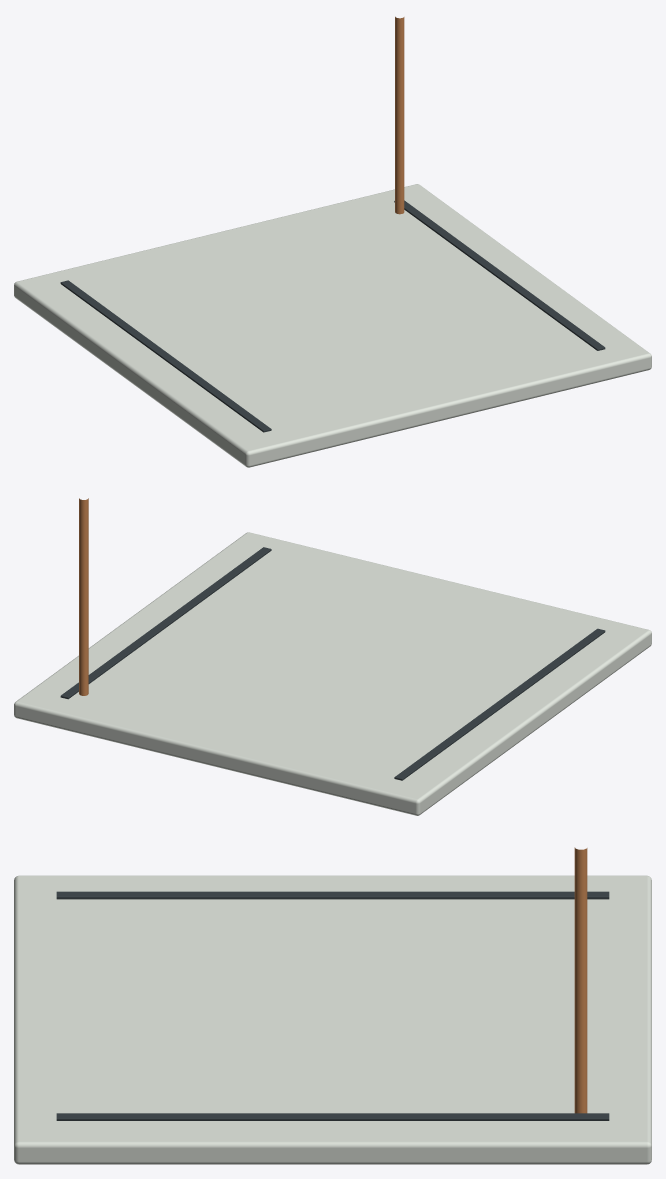
The model's file is abandoned-weather-station-and-storm-shelter-snow-board-40e2d923__31019.glb.
The picture shows the model from 3 angles, top to bottom: view 1: azimuth 30°, elevation 25°; view 2: azimuth 150°, elevation 25°; view 3: azimuth 270°, elevation 25°; orthographic projection. The views are drawn at different scales.
Visible parts, largest first — view 1: snow-board; view 2: snow-board; view 3: snow-board.
Boxes of the visible parts, x1=… form: snow-board: x1=14, y1=16, x2=651, y2=467; snow-board: x1=14, y1=498, x2=651, y2=815; snow-board: x1=14, y1=847, x2=651, y2=1164.
Bounding box in the file's own units: 0.9 × 0.45 × 0.9.
